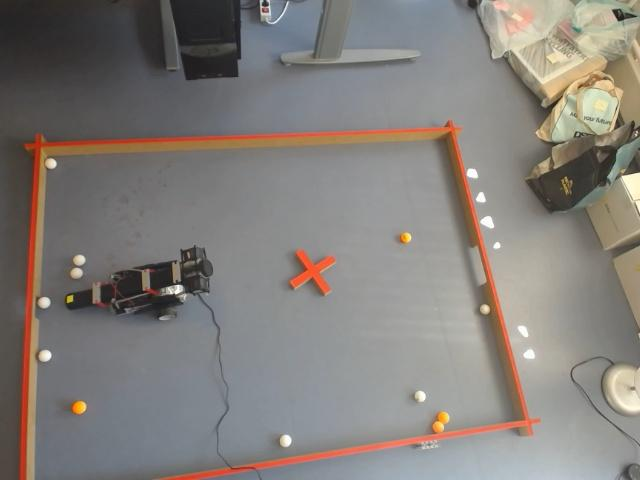orange: (70, 400, 90, 416), (432, 422, 446, 433), (438, 412, 449, 423), (400, 232, 411, 243)
robot: (64, 245, 213, 321)
robot-front: (65, 290, 90, 309)
white: (43, 156, 58, 171), (68, 266, 84, 280), (36, 296, 52, 309), (38, 349, 52, 363), (279, 434, 292, 448), (72, 253, 86, 266), (414, 390, 427, 404), (479, 304, 490, 316)
